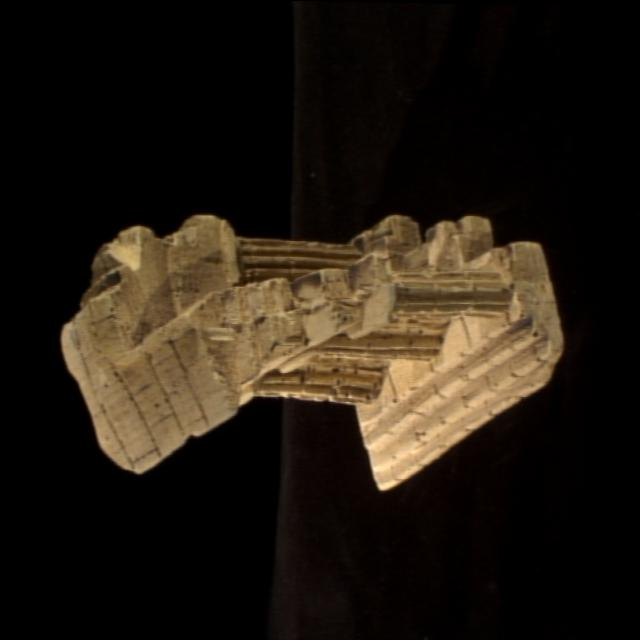Instance-Segmentation: (61, 214, 562, 487)
